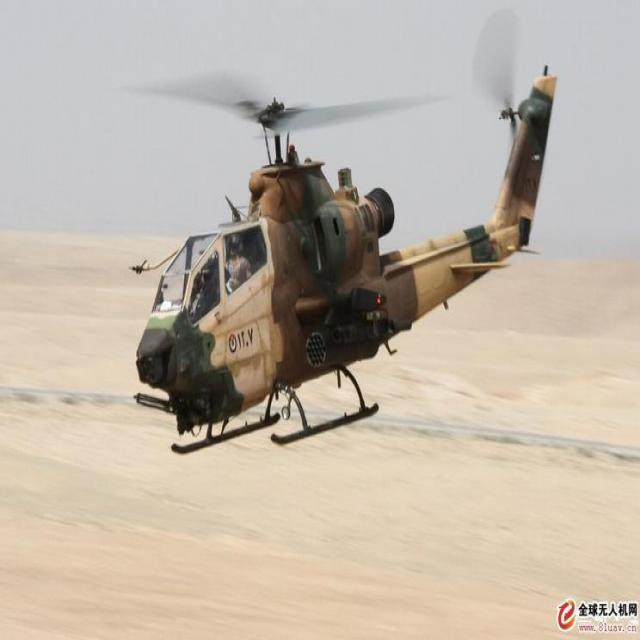MIL_HELO: (102, 5, 565, 469)
